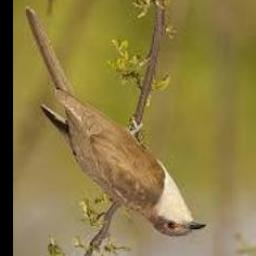Cuckoo: (25, 6, 207, 238)
